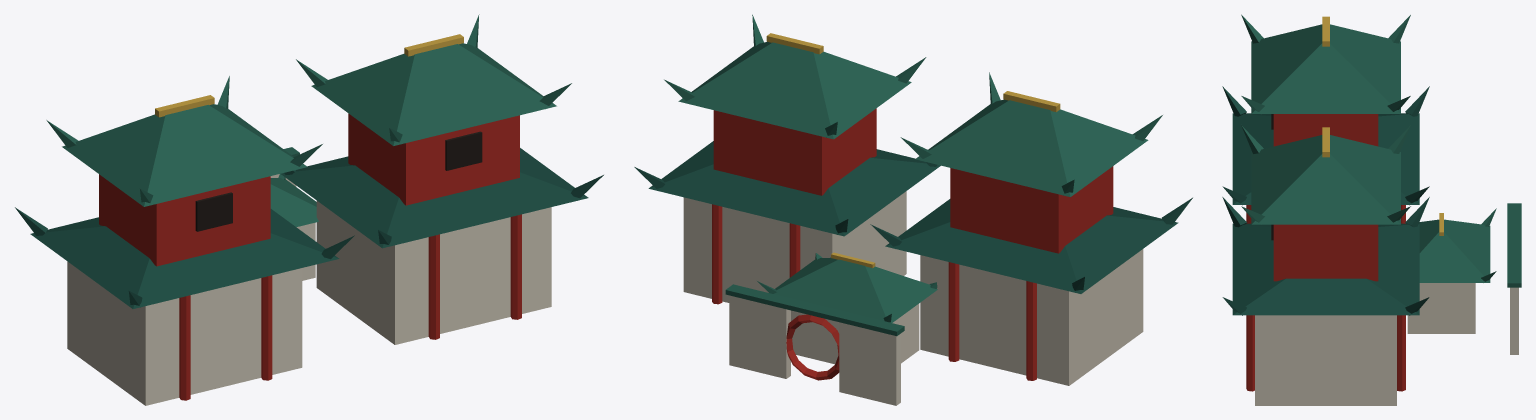
Rendered from dragon_row.glb.
The picture shows the model from 3 angles, left to right: view 1: azimuth 30°, elevation 25°; view 2: azimuth 150°, elevation 25°; view 3: azimuth 270°, elevation 25°; orthographic projection. The views are drawn at different scales.
Parts seen in each view (by area): view 1: dragon_row; view 2: dragon_row; view 3: dragon_row.
Part boxes in pixels (bbox=[...]): dragon_row: bbox=[15, 14, 603, 405]; dragon_row: bbox=[634, 14, 1192, 405]; dragon_row: bbox=[1222, 14, 1521, 405].
Bounding box in the file's own units: 6.68 × 3.42 × 4.01.
